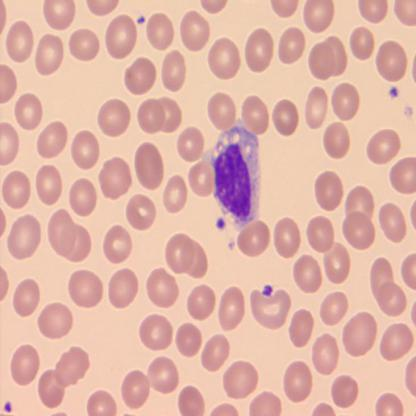Myelocyte: (211, 122, 259, 226)
